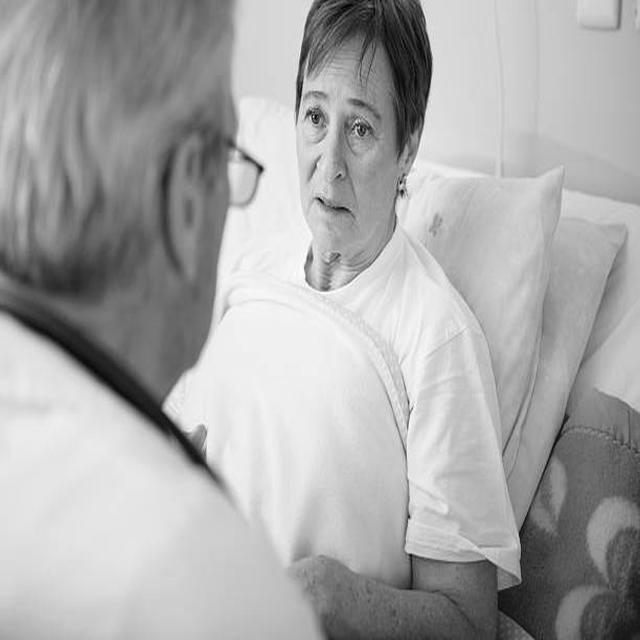Fear: (295, 42, 401, 252)
